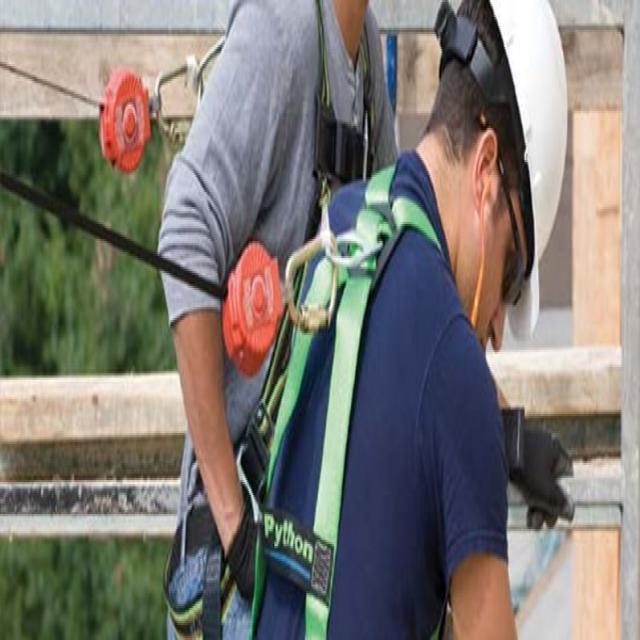Arnes_seguridad: (217, 156, 458, 640)
